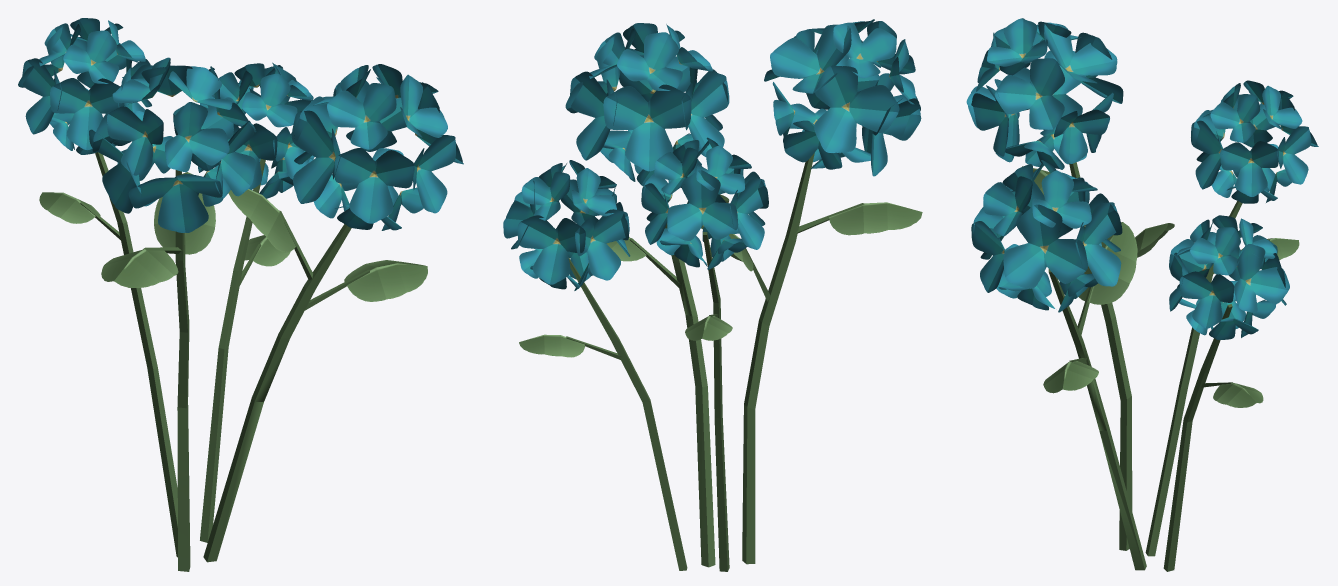
Rendered from flower_clump_1.fbx.
3 renders of one model, left to right at view 1: azimuth 30°, elevation 25°; view 2: azimuth 150°, elevation 25°; view 3: azimuth 270°, elevation 25°, orthographic. The views are drawn at different scales.
Parts seen in each view (by area): view 1: flower_clump_1_LOD0; view 2: flower_clump_1_LOD0; view 3: flower_clump_1_LOD0.
Part boxes in pixels (left/top/right/bottom): flower_clump_1_LOD0: left=18, top=18, right=463, bottom=571; flower_clump_1_LOD0: left=503, top=19, right=922, bottom=571; flower_clump_1_LOD0: left=966, top=18, right=1318, bottom=571.
Size of what is drawn, in the model's own units: 0.2807 by 0.4 by 0.2593.
1 material, 1 textured.
